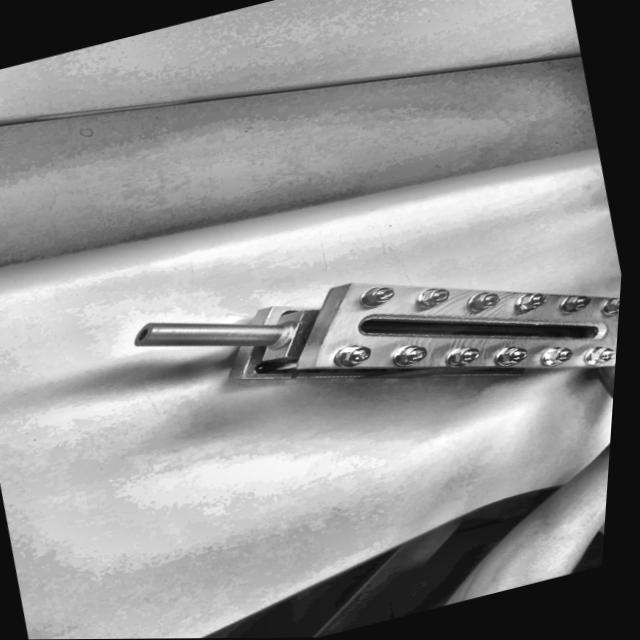ShuiWeiQi_12: (111, 199, 629, 491)
